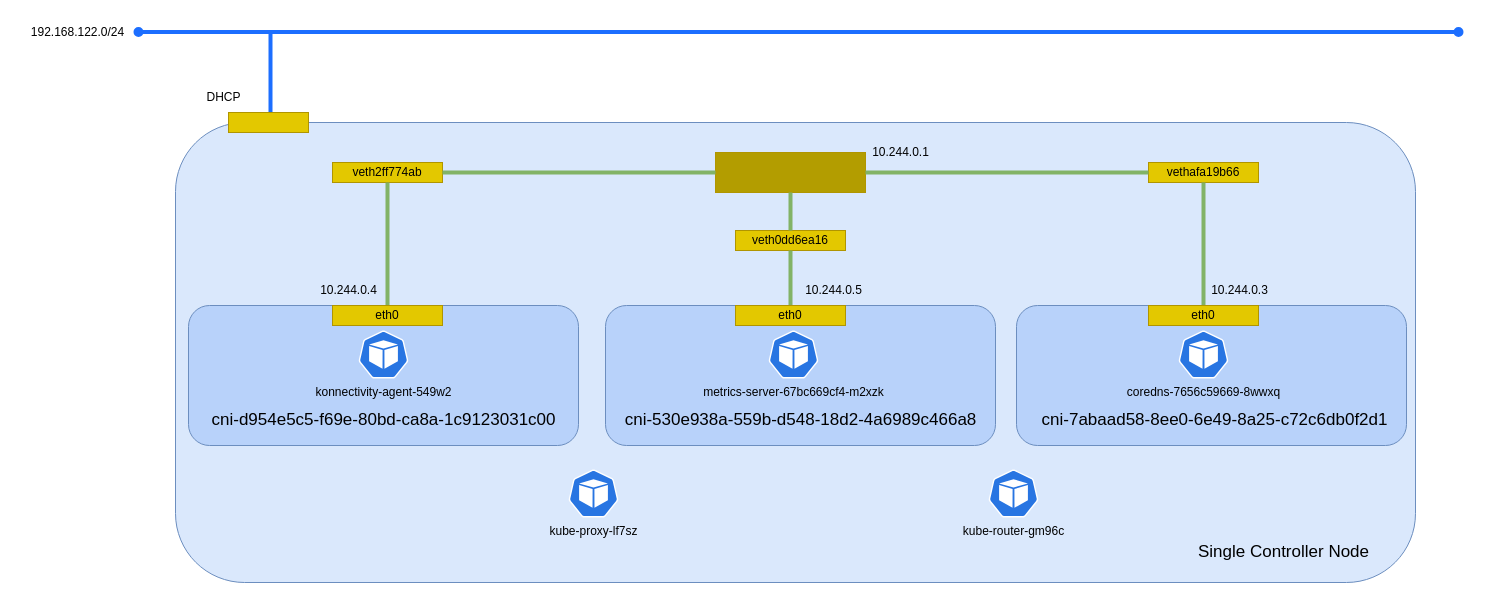
Some shapes in this 1486 by 600 pixel diagram are drawn without their labels. Here are the shapes that lost their labels. From the top down, the box of each, then its label:
(228, 112, 308, 132): enp1s0
(714, 152, 866, 192): kube-bridge
